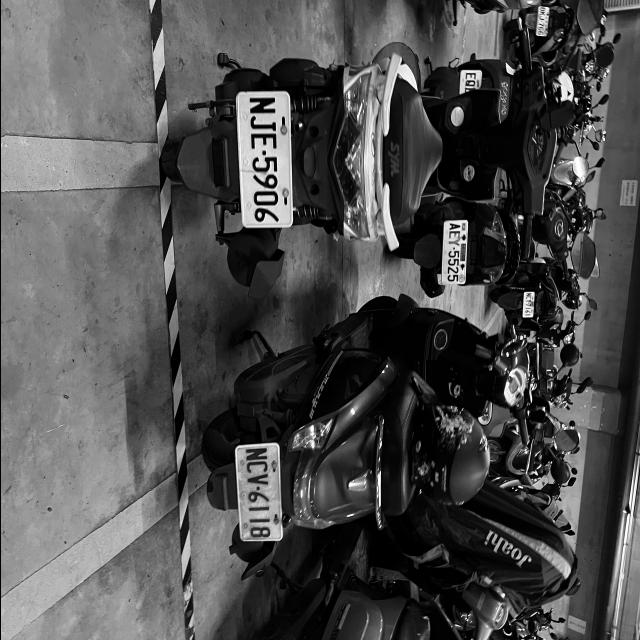-: (260, 150, 266, 156), (256, 486, 260, 491), (451, 247, 455, 250), (526, 302, 528, 304)
0: (252, 190, 277, 207), (539, 7, 545, 11)
1: (247, 518, 270, 524), (248, 506, 269, 512), (524, 314, 530, 316), (524, 308, 530, 310)
2: (446, 266, 458, 274)
5: (252, 156, 278, 172), (446, 274, 458, 282), (446, 258, 458, 266), (447, 250, 459, 258)
6: (254, 208, 278, 222), (248, 492, 270, 504), (524, 310, 530, 314)
7: (536, 22, 544, 27), (524, 303, 530, 307)
8: (248, 526, 272, 538)
9: (252, 174, 277, 188)
A: (448, 223, 460, 230)
C: (246, 461, 267, 474), (526, 296, 530, 300)
E: (250, 133, 276, 150), (448, 230, 460, 238), (464, 73, 475, 79)
J: (249, 116, 275, 130), (538, 16, 544, 20)
K: (539, 12, 545, 16)
N: (249, 96, 276, 115), (245, 446, 267, 461), (525, 292, 531, 296)
Q: (464, 80, 474, 87)
V: (246, 474, 268, 484)
Y: (448, 240, 460, 246), (525, 300, 531, 302)
plate: (244, 93, 288, 229), (238, 438, 273, 548), (440, 221, 468, 285), (536, 8, 548, 36), (522, 292, 534, 318)
